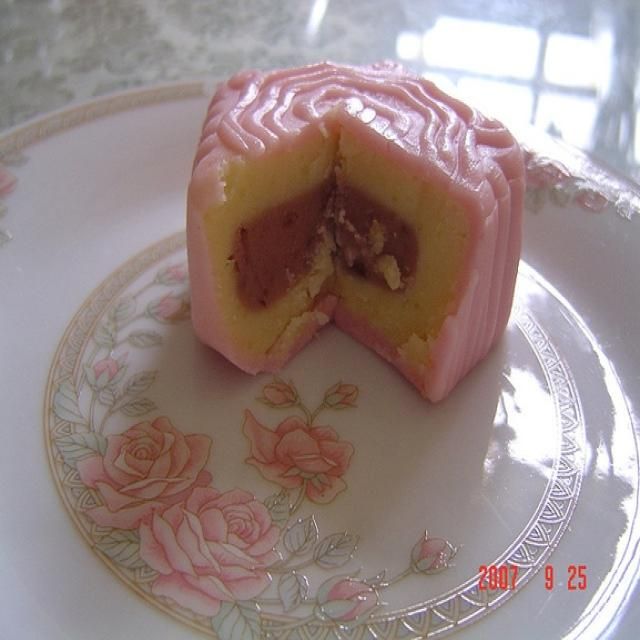蛋糕甜品: (175, 42, 539, 416)
